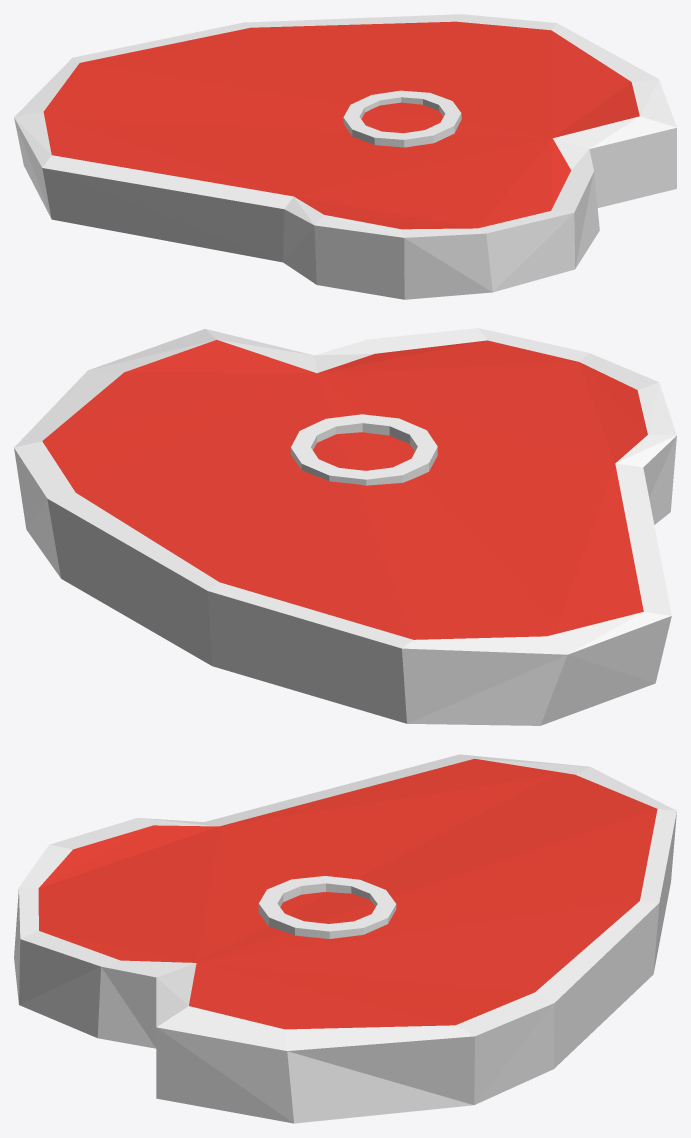
The model's file is steak.glb.
The picture shows the model from 3 angles, top to bottom: view 1: azimuth 30°, elevation 25°; view 2: azimuth 150°, elevation 25°; view 3: azimuth 270°, elevation 25°; orthographic projection. The views are drawn at different scales.
Visible parts, largest first — view 1: Node; view 2: Node; view 3: Node.
Boxes of the visible parts, x1,y1,x2,y2 form: Node: (14,14,676,299); Node: (14,328,676,725); Node: (14,754,676,1123).
Bounding box in the file's own units: 0.3755 × 0.0518 × 0.3371.
